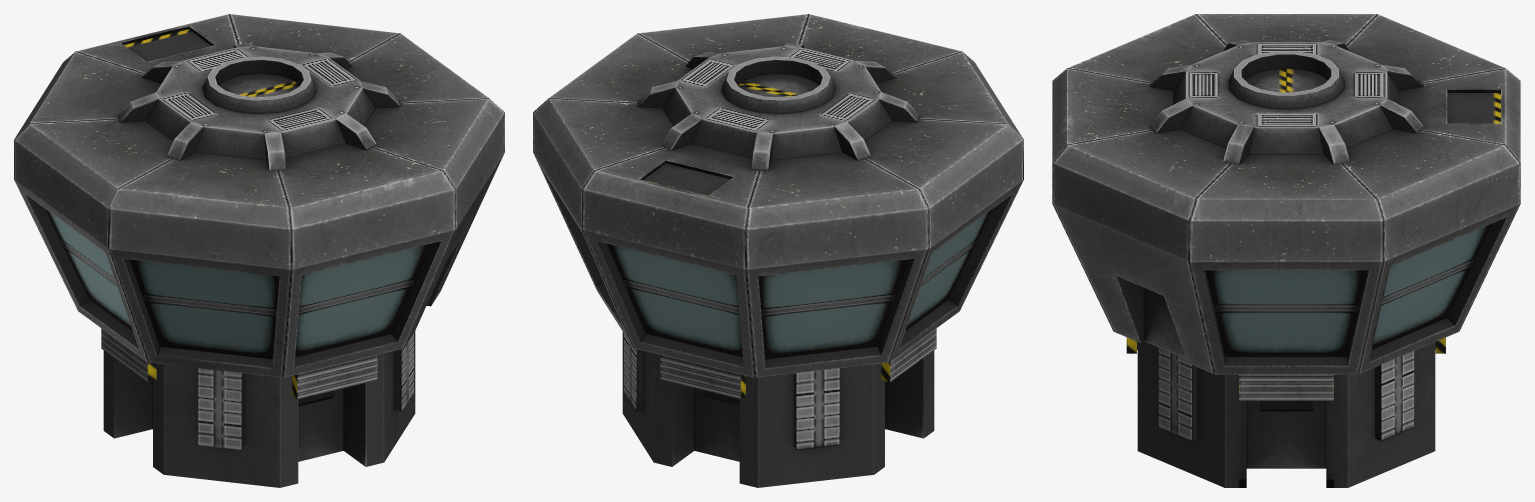
File: Outpost_Aircon.FBX
3 renders of one model, left to right at view 1: azimuth 30°, elevation 25°; view 2: azimuth 150°, elevation 25°; view 3: azimuth 270°, elevation 25°, orthographic. The views are drawn at different scales.
Parts seen in each view (by area): view 1: tower_top, base, leg4, antennadoor1, leg3, radardoor1; view 2: tower_top, base, leg2, antennadoor1, leg3, radardoor2; view 3: tower_top, base, leg1, antennadoor1, radardoor1, radardoor2.
Boxes of the visible parts, left/top/right/bottom form: tower_top: left=14, top=14, right=504, bottom=377; base: left=103, top=331, right=415, bottom=487; leg4: left=292, top=355, right=377, bottom=406; antennadoor1: left=124, top=29, right=210, bottom=61; leg3: left=101, top=328, right=156, bottom=382; radardoor1: left=219, top=73, right=296, bottom=95; tower_top: left=533, top=14, right=1023, bottom=377; base: left=622, top=332, right=934, bottom=487; leg2: left=660, top=355, right=745, bottom=405; antennadoor1: left=643, top=163, right=730, bottom=195; leg3: left=881, top=328, right=936, bottom=382; radardoor2: left=741, top=73, right=818, bottom=95; tower_top: left=1052, top=14, right=1520, bottom=374; base: left=1137, top=341, right=1435, bottom=487; leg1: left=1239, top=374, right=1333, bottom=411; antennadoor1: left=1447, top=93, right=1500, bottom=123; radardoor1: left=1286, top=68, right=1327, bottom=92; radardoor2: left=1245, top=68, right=1286, bottom=92.
Size of the model in its own units: 68.75 by 56.97 by 68.75.
Materials: 1 (1 with a texture image).
